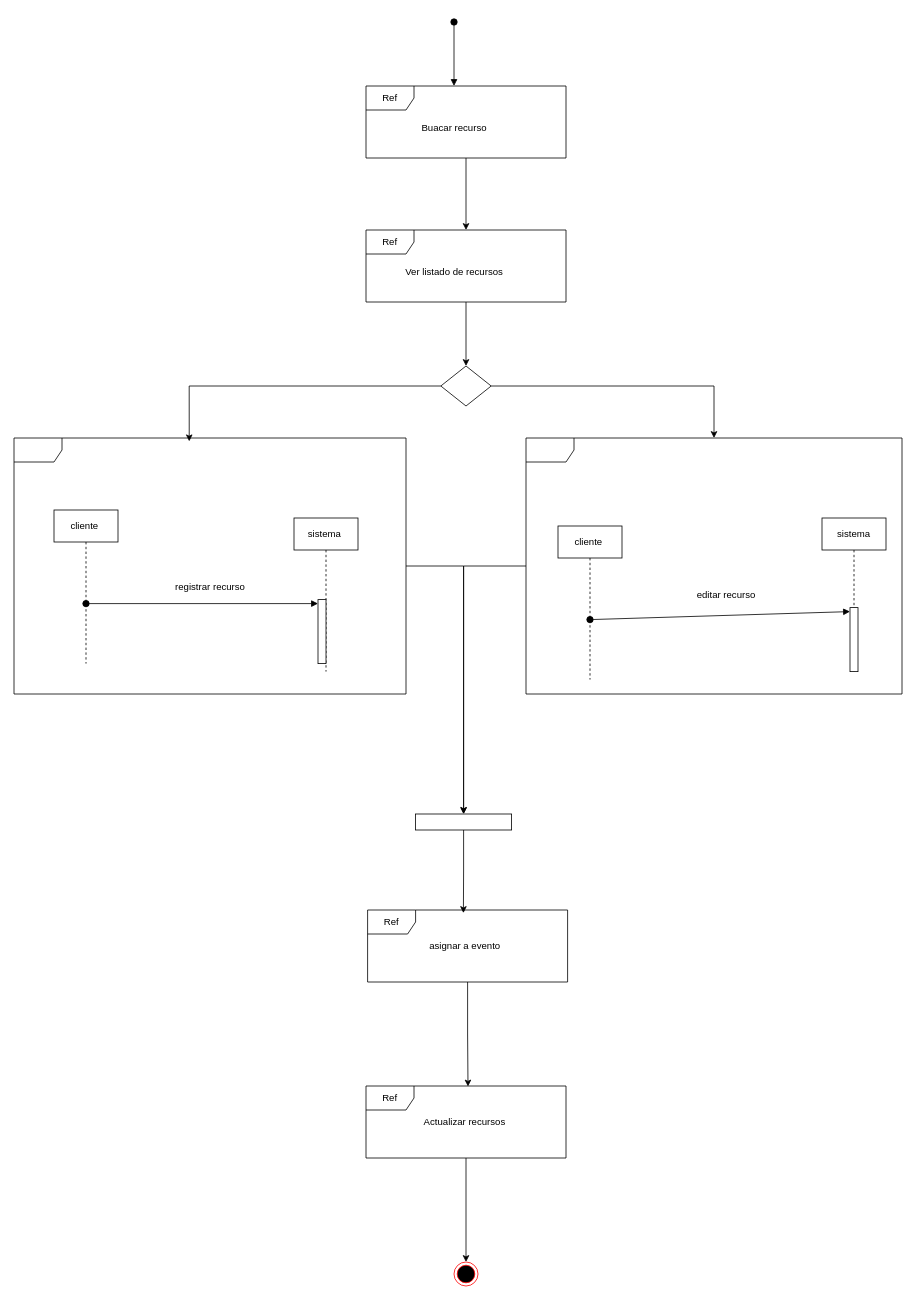
The diagram is 916 pixels wide and 1300 high, and some of its shapes have lost their labels. Each missing label, with the box of its shape:
Sd cuenta: (13, 437, 406, 694)
Sd edicion: (525, 437, 902, 694)
